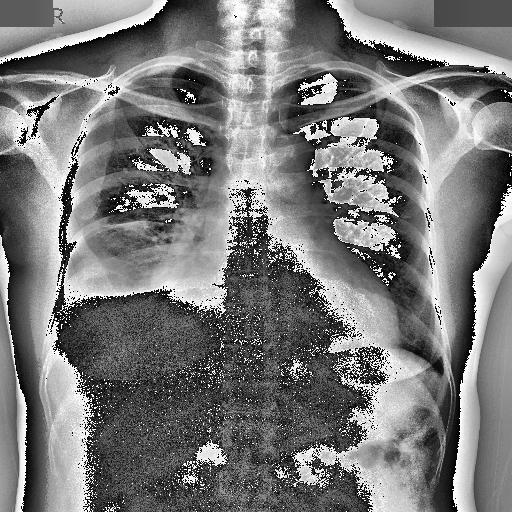0- Aortic enlargement: (258, 133, 317, 186)
10- Pleural effusion: (48, 220, 186, 372), (58, 277, 100, 331), (432, 360, 452, 386)
11- Pleural thickening: (58, 277, 100, 331), (116, 58, 182, 88), (114, 64, 180, 88), (432, 360, 452, 386)
3- Cardiomegaly: (148, 266, 400, 358)
7- Lung Opacity: (70, 221, 218, 323), (72, 218, 204, 294), (66, 252, 144, 292)
